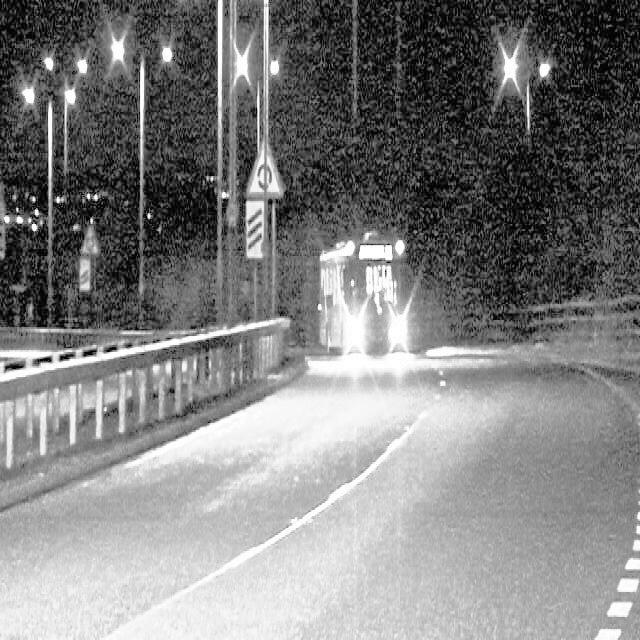Bus: (302, 219, 435, 388)
